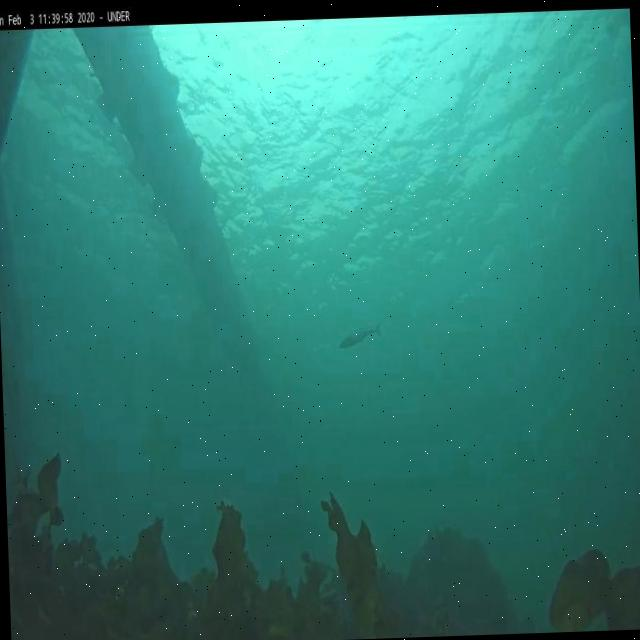fish: (340, 325, 380, 349)
